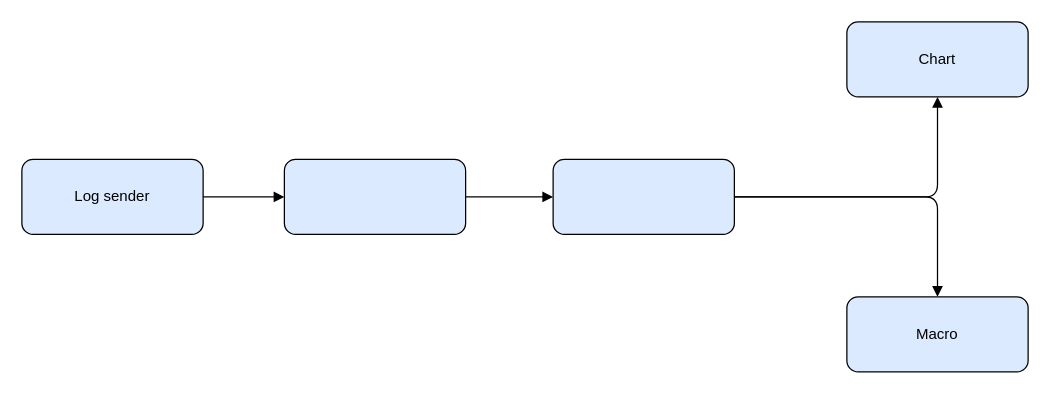
Some shapes in this 1050 by 394 pixel diagram are drawn without their labels. The centre of each missing label's shape, as x and y in pixels:
"Analytics DB" goes at [374,196].
"Dataset SQL" goes at [643,196].
